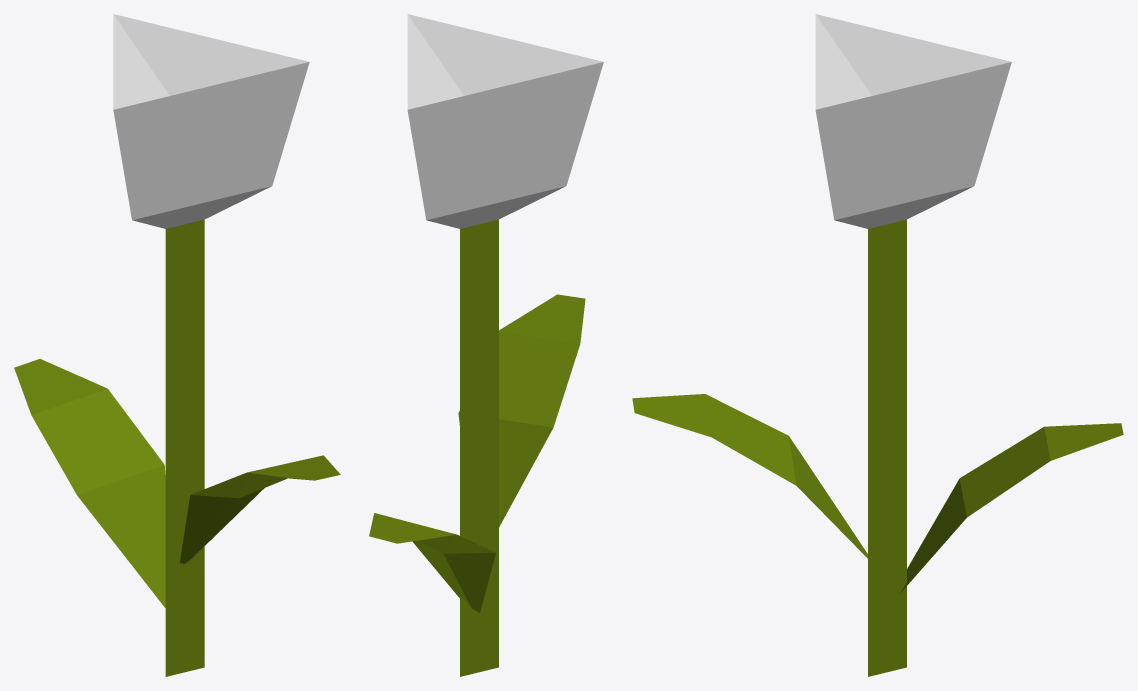
Rendered from Tulip.fbx.
The picture shows the model from 3 angles, left to right: view 1: azimuth 30°, elevation 25°; view 2: azimuth 150°, elevation 25°; view 3: azimuth 270°, elevation 25°; orthographic projection.
Parts seen in each view (by area): view 1: Tulip; view 2: Tulip; view 3: Tulip.
Part boxes in pixels (bbox=[...]): Tulip: bbox=[14, 14, 340, 676]; Tulip: bbox=[369, 14, 603, 676]; Tulip: bbox=[632, 14, 1123, 676].
Size of the model in its own units: 11.38 by 33.53 by 24.65.
